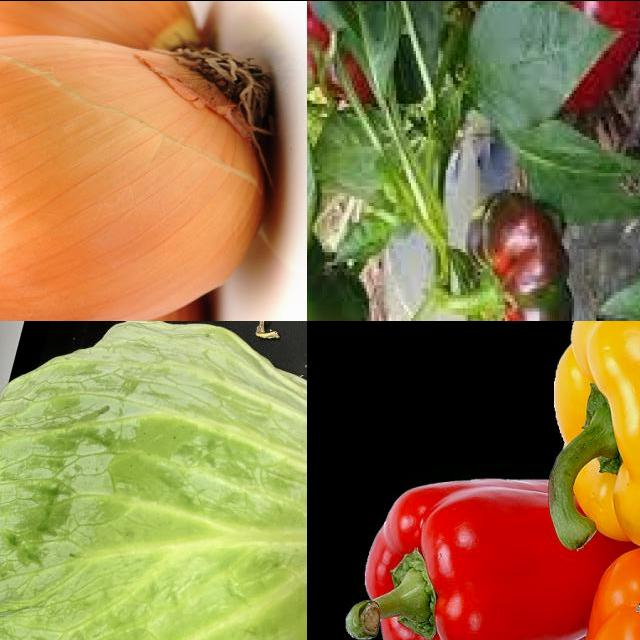bell_pepper: (334, 464, 640, 640), (538, 321, 640, 575), (462, 180, 573, 321)
cabbage: (1, 321, 308, 640)
onion: (1, 41, 268, 321), (1, 1, 224, 97)
